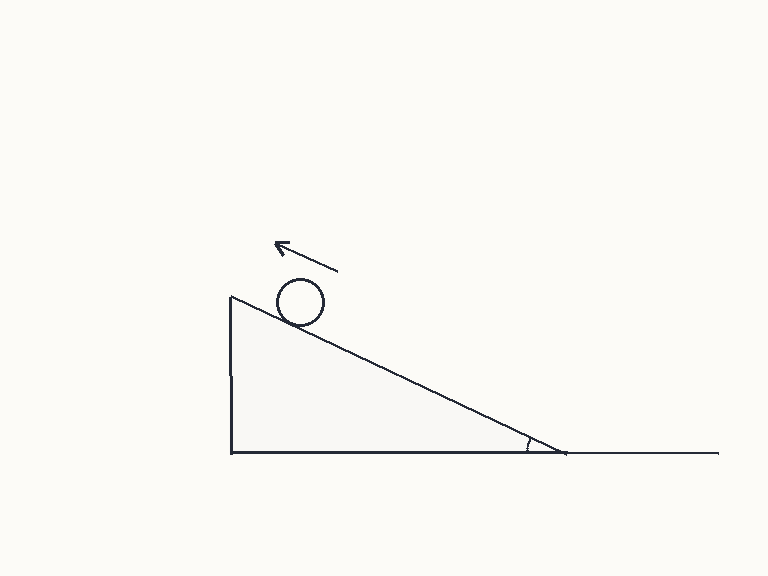ball: (274, 276, 326, 328)
ramp: (228, 294, 569, 455)
